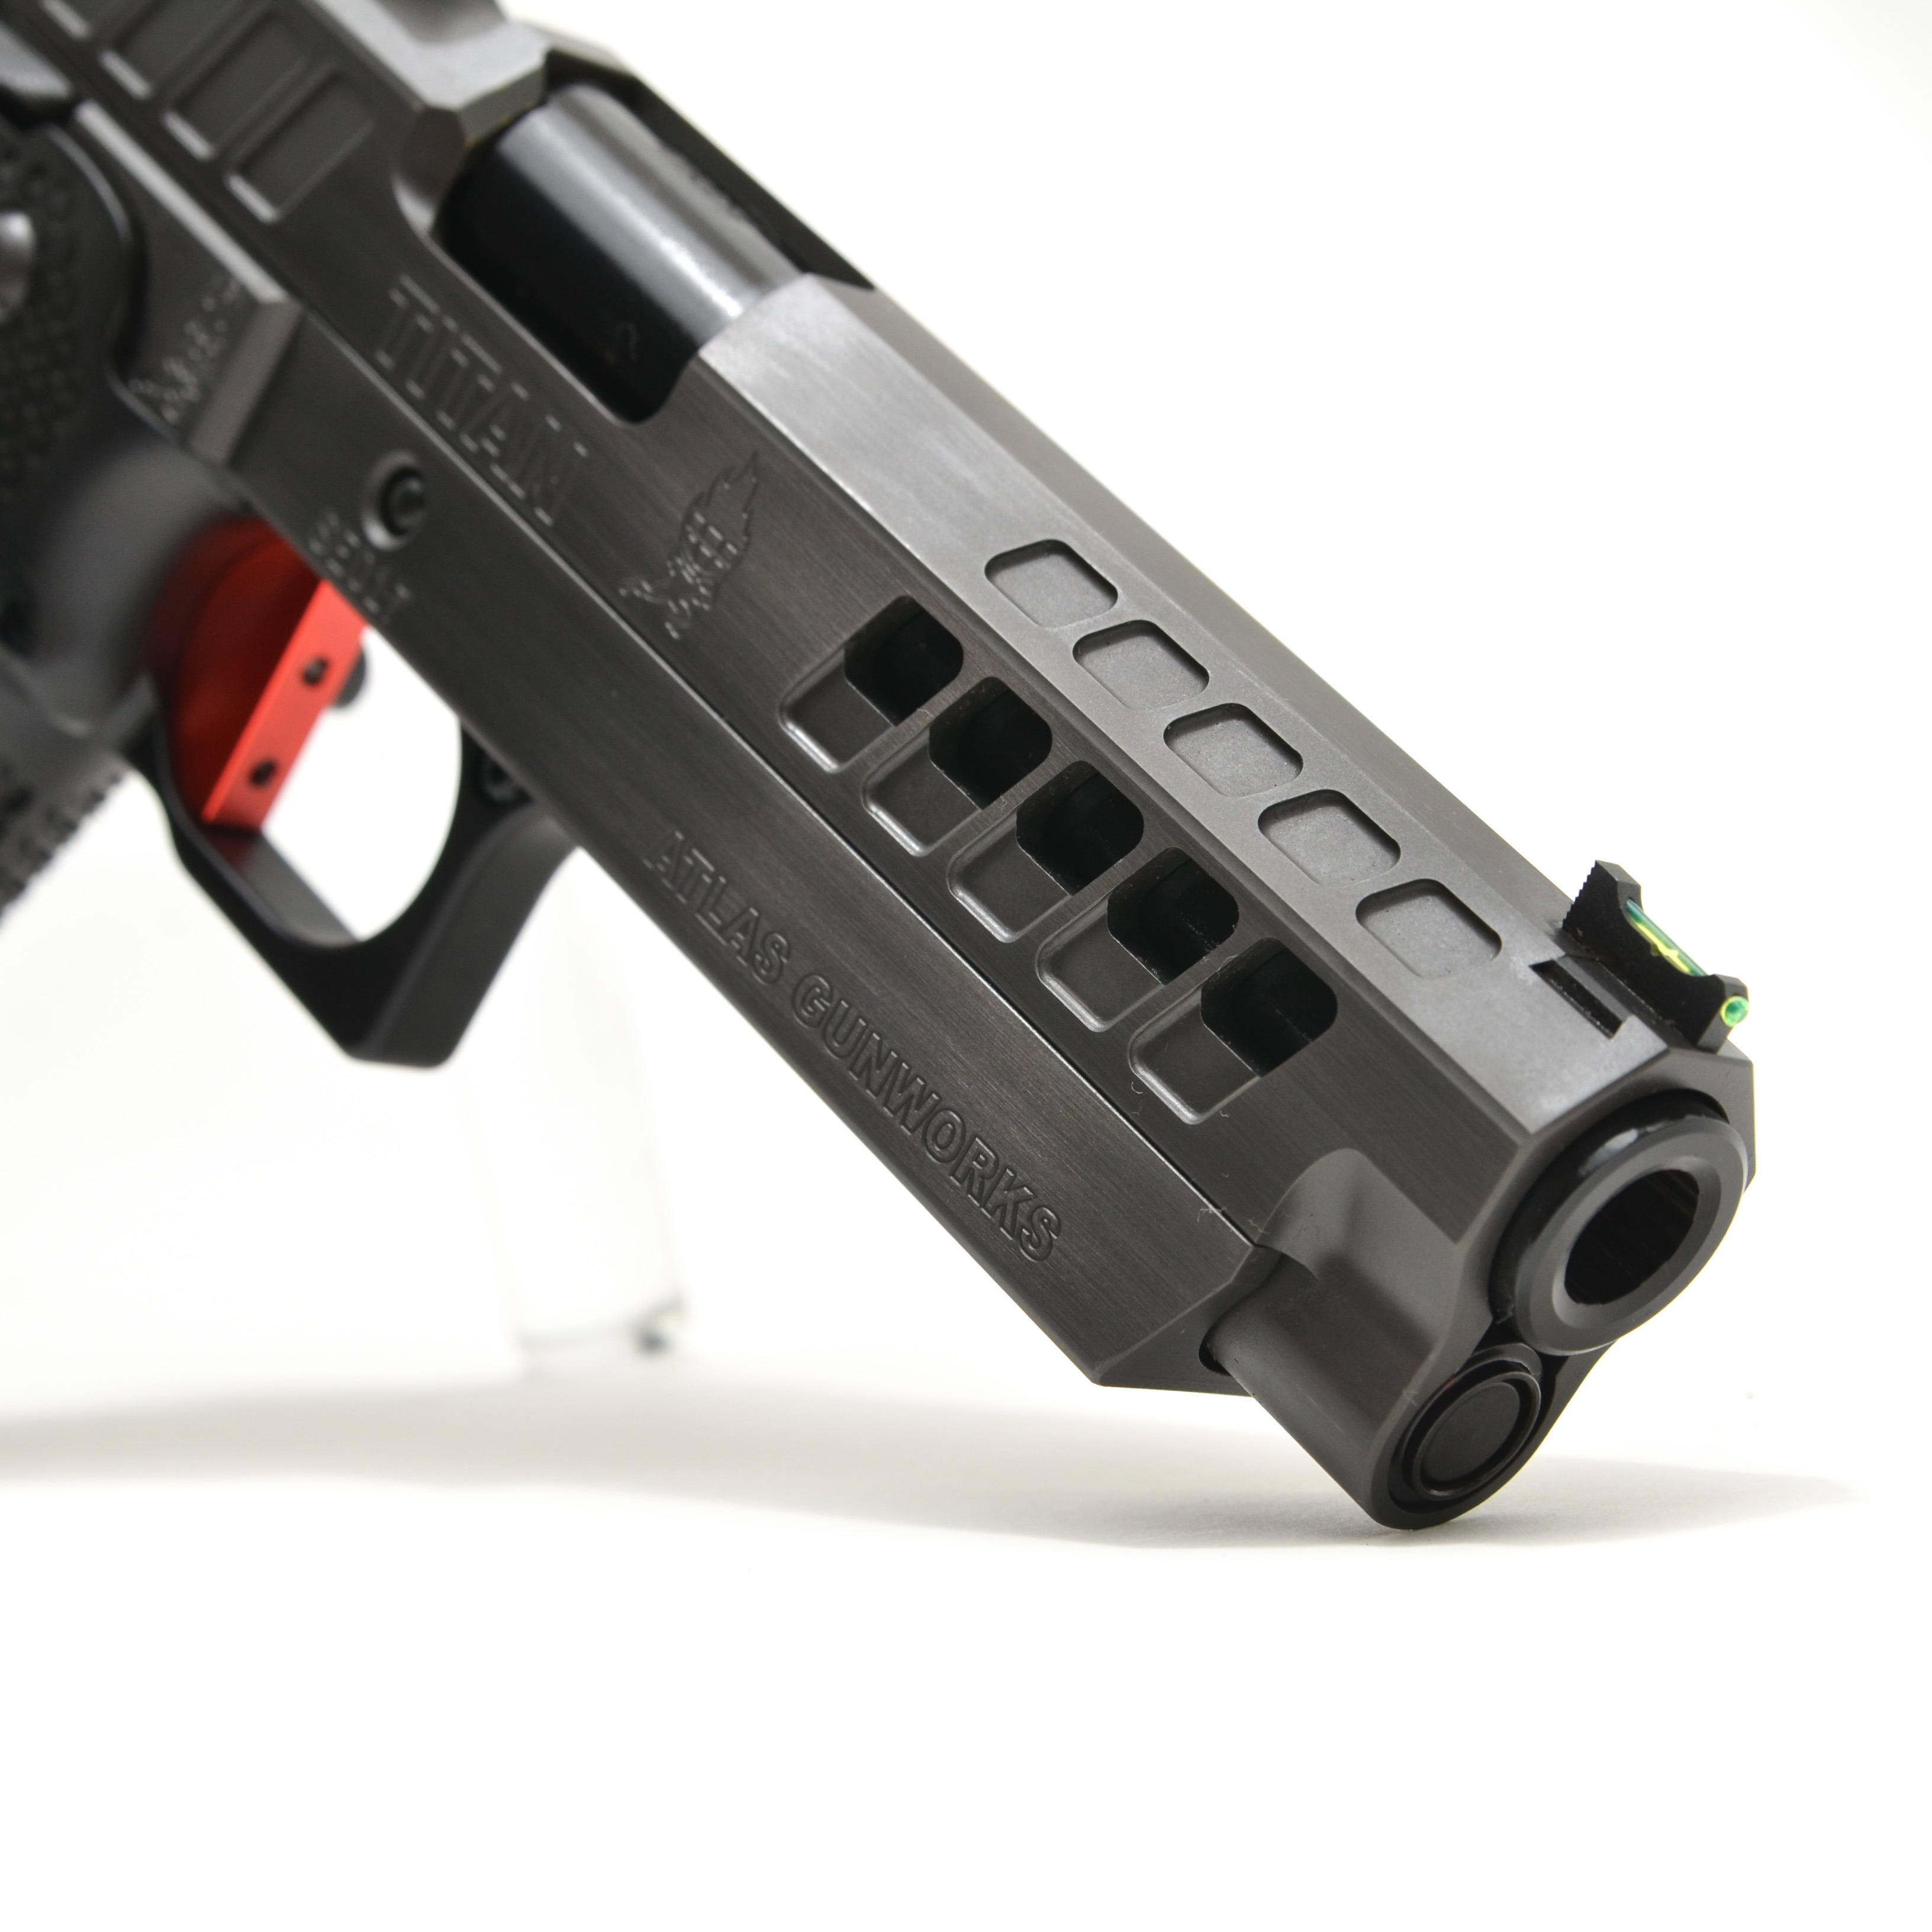gun: (9, 0, 1778, 1580)
